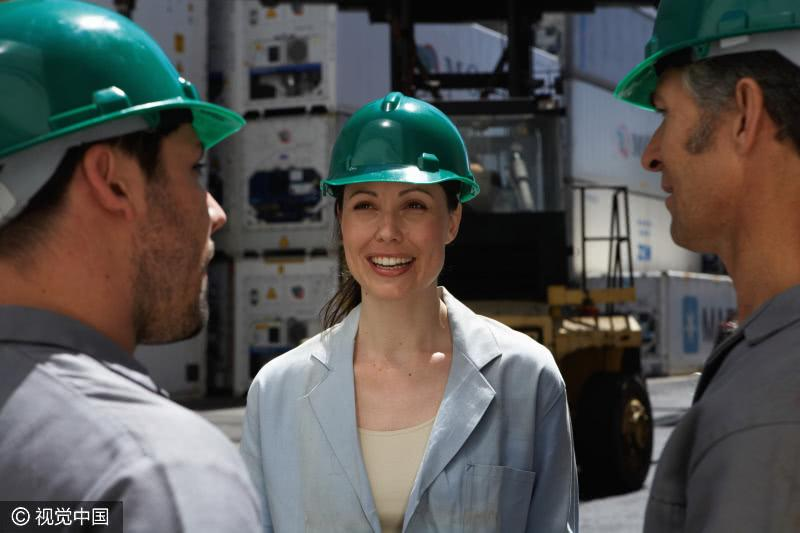helmet: (1, 1, 248, 176), (617, 1, 800, 114), (318, 91, 483, 206)
